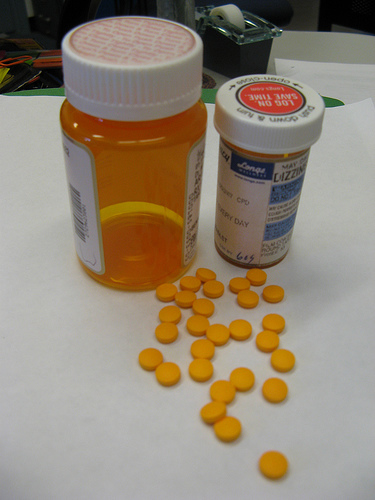pill bottle: (210, 71, 327, 270)
